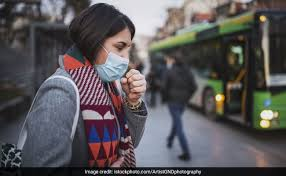mask: (72, 1, 130, 82)
